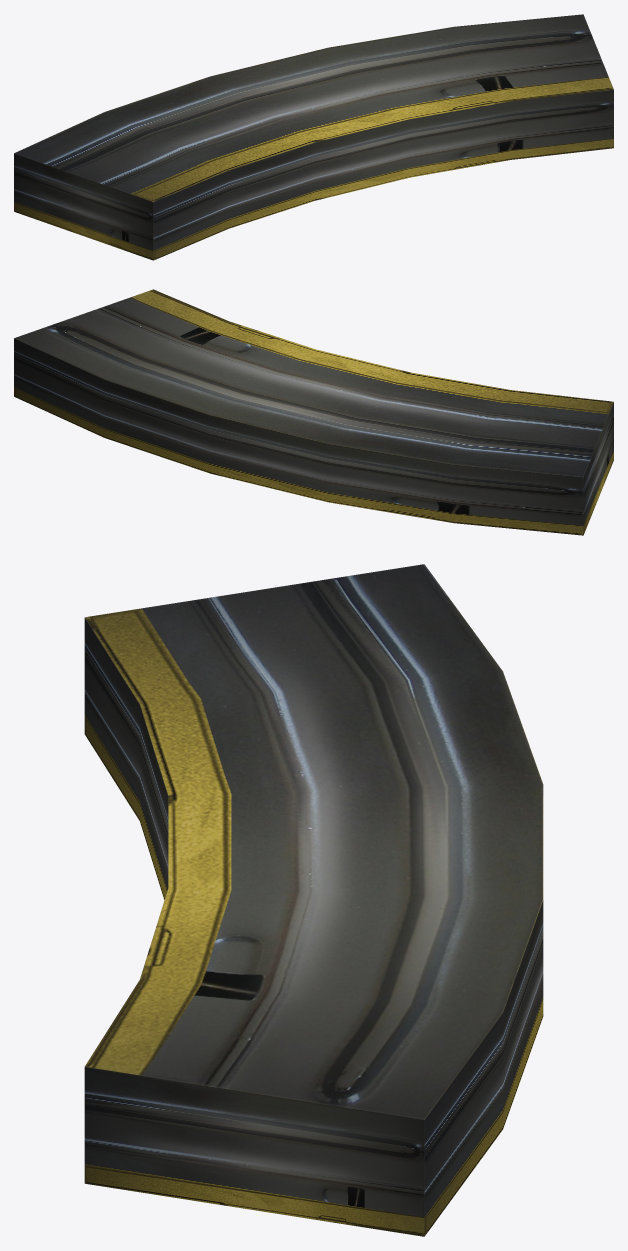
File: static.fbx
3 views of the same model, one above another, from view 1: azimuth 30°, elevation 25°; view 2: azimuth 150°, elevation 25°; view 3: azimuth 270°, elevation 25° (orthographic). The views are drawn at different scales.
Visible parts, largest first — view 1: Cube; view 2: Cube; view 3: Cube.
Part boxes in pixels (x1,y1,x2,y2): Cube: (14,14,613,260); Cube: (14,289,613,535); Cube: (84,564,543,1236).
Size of the model in its own units: 105 by 10.34 by 36.76.
Materials: 1 (1 with a texture image).
